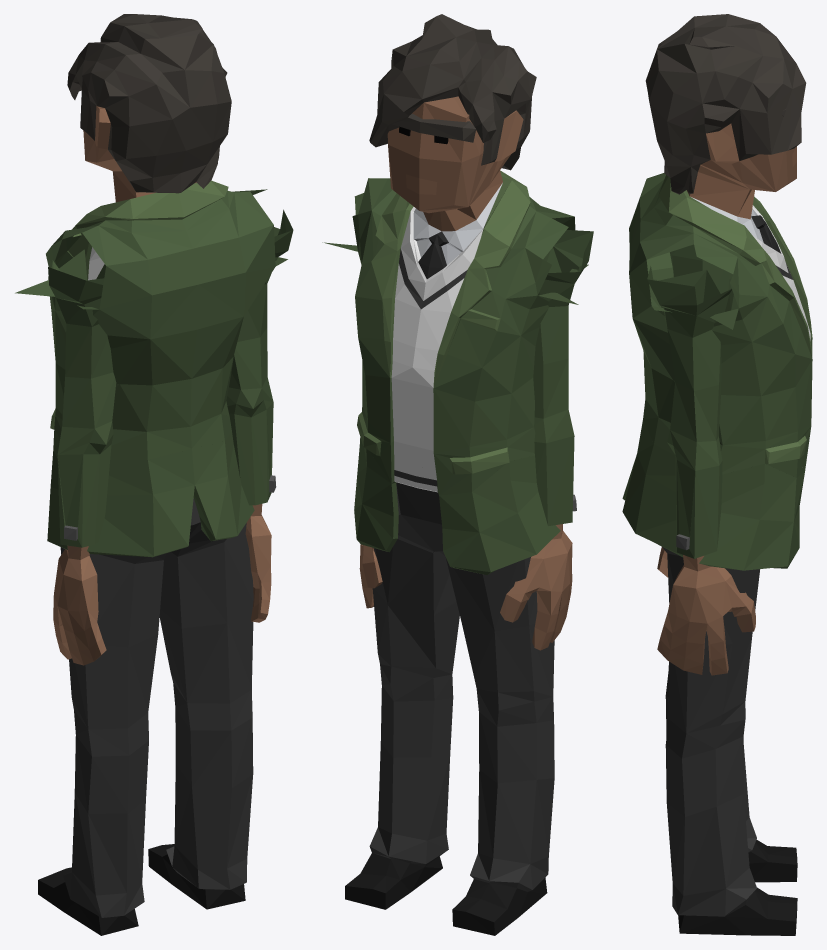
File: Body_vocals.obj
The picture shows the model from 3 angles, left to right: view 1: azimuth 30°, elevation 25°; view 2: azimuth 150°, elevation 25°; view 3: azimuth 270°, elevation 25°; orthographic projection. The views are drawn at different scales.
Parts seen in each view (by area): view 1: Body_vocals; view 2: Body_vocals; view 3: Body_vocals.
Boxes of the visible parts, x1,y1,x2,y2 form: Body_vocals: (15, 14, 293, 935); Body_vocals: (322, 14, 593, 935); Body_vocals: (622, 14, 812, 935).
Bounding box in the file's own units: 0.5758 × 1.84 × 0.3616.
1 material, 1 textured.
